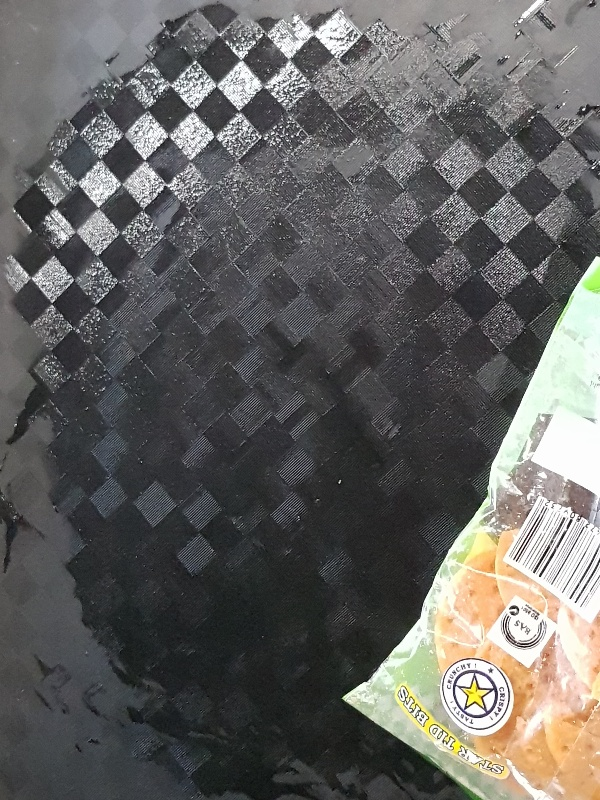Star Tidbits 'O' Ring: (340, 252, 599, 800)
